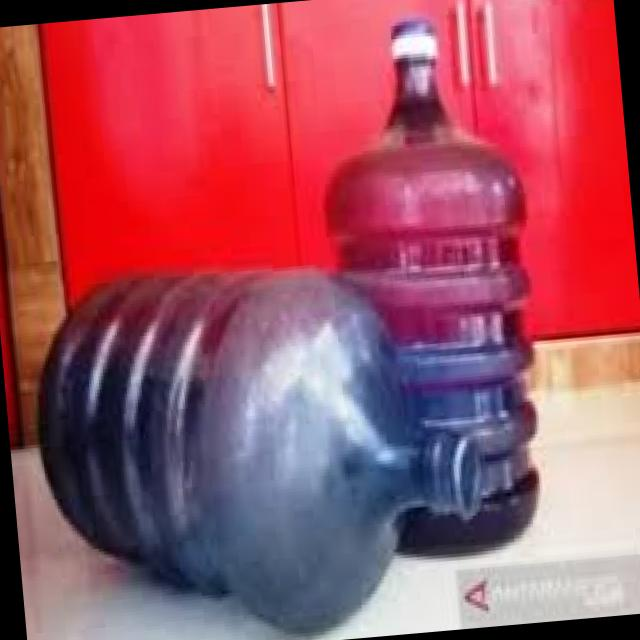Galon: (2, 5, 562, 640)
